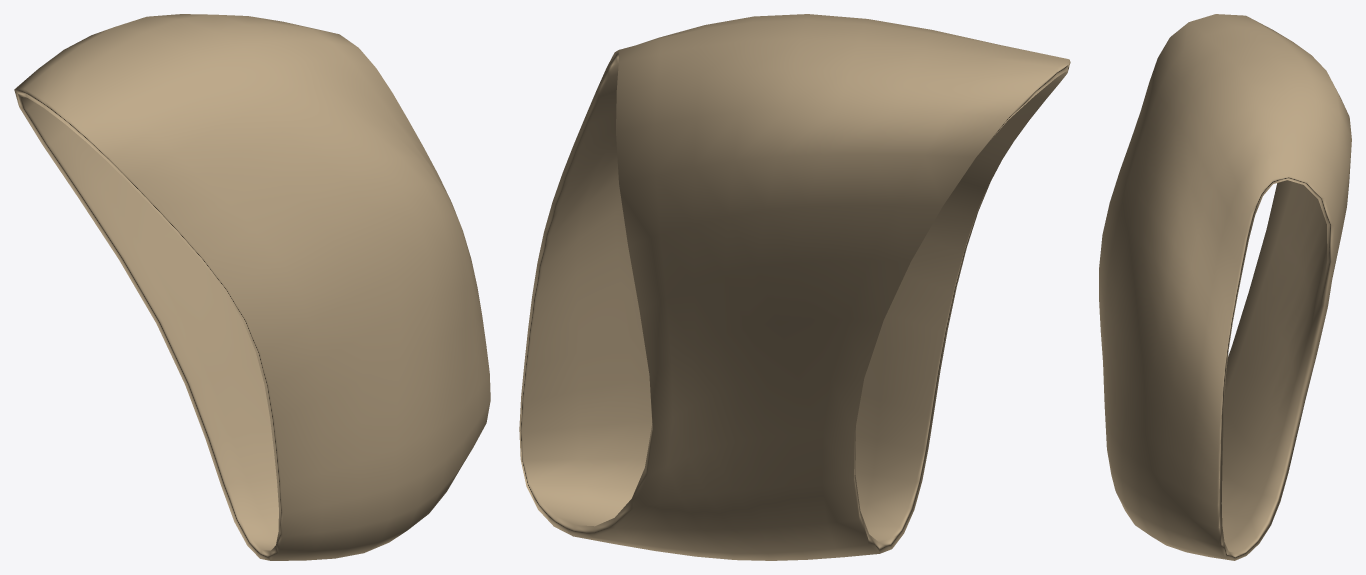
3 renders of one model, left to right at view 1: azimuth 30°, elevation 25°; view 2: azimuth 150°, elevation 25°; view 3: azimuth 270°, elevation 25°, orthographic. The views are drawn at different scales.
Parts seen in each view (by area): view 1: 左侧肩锁关节囊; view 2: 左侧肩锁关节囊; view 3: 左侧肩锁关节囊.
Boxes of the visible parts, x1,y1,x2,y2 form: 左侧肩锁关节囊: (14,14,490,560); 左侧肩锁关节囊: (519,14,1070,560); 左侧肩锁关节囊: (1099,14,1351,560).
Size of the model in its own units: 0.0398 by 0.043 by 0.0238.
